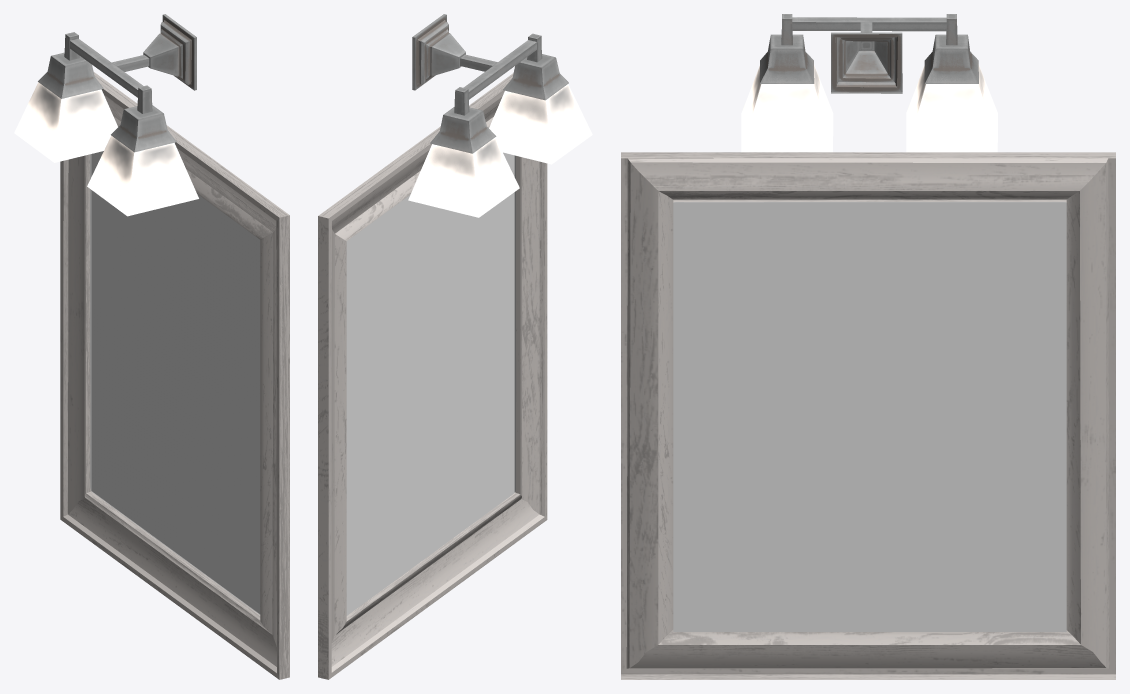
The model's file is SM_Mirror_A2.fbx.
The picture shows the model from 3 angles, left to right: view 1: azimuth 30°, elevation 25°; view 2: azimuth 150°, elevation 25°; view 3: azimuth 270°, elevation 25°; orthographic projection. The views are drawn at different scales.
Visible parts, largest first — view 1: SM_Mirror_A2; view 2: SM_Mirror_A2; view 3: SM_Mirror_A2.
Part boxes in pixels (x1,y1,x2,y2): SM_Mirror_A2: (14, 14, 289, 679); SM_Mirror_A2: (318, 14, 592, 679); SM_Mirror_A2: (621, 14, 1115, 679).
Size of the model in its own units: 22.6 by 78.42 by 113.
Materials: 3 (2 with a texture image).
